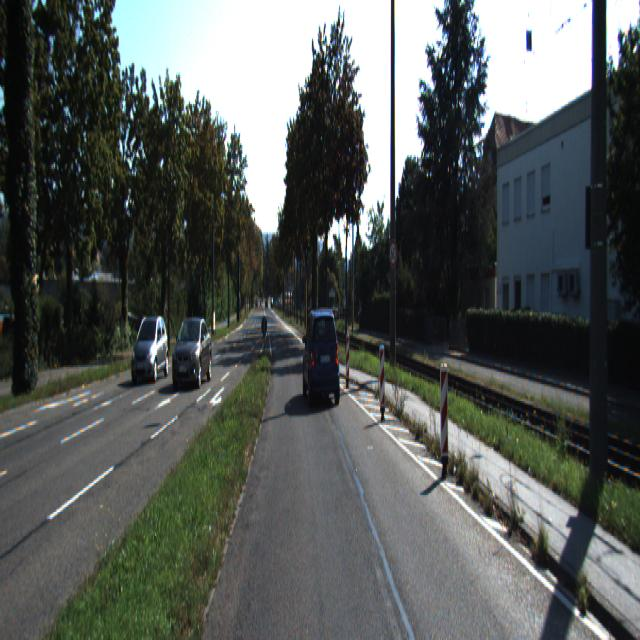Car: (303, 308, 342, 413), (171, 316, 212, 394), (131, 315, 169, 385)
DontCare: (253, 284, 274, 315), (280, 283, 295, 311)
